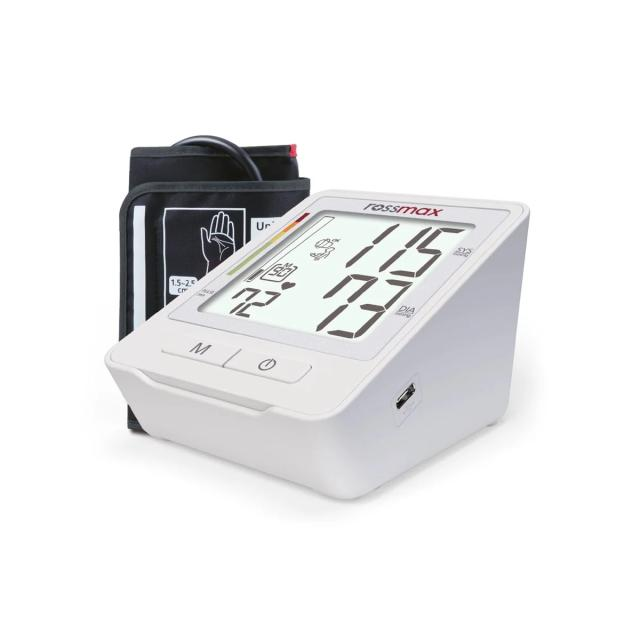dia: (290, 252, 417, 356)
pul: (209, 271, 283, 327)
ssd: (197, 127, 477, 407)
sys: (332, 210, 476, 287)
